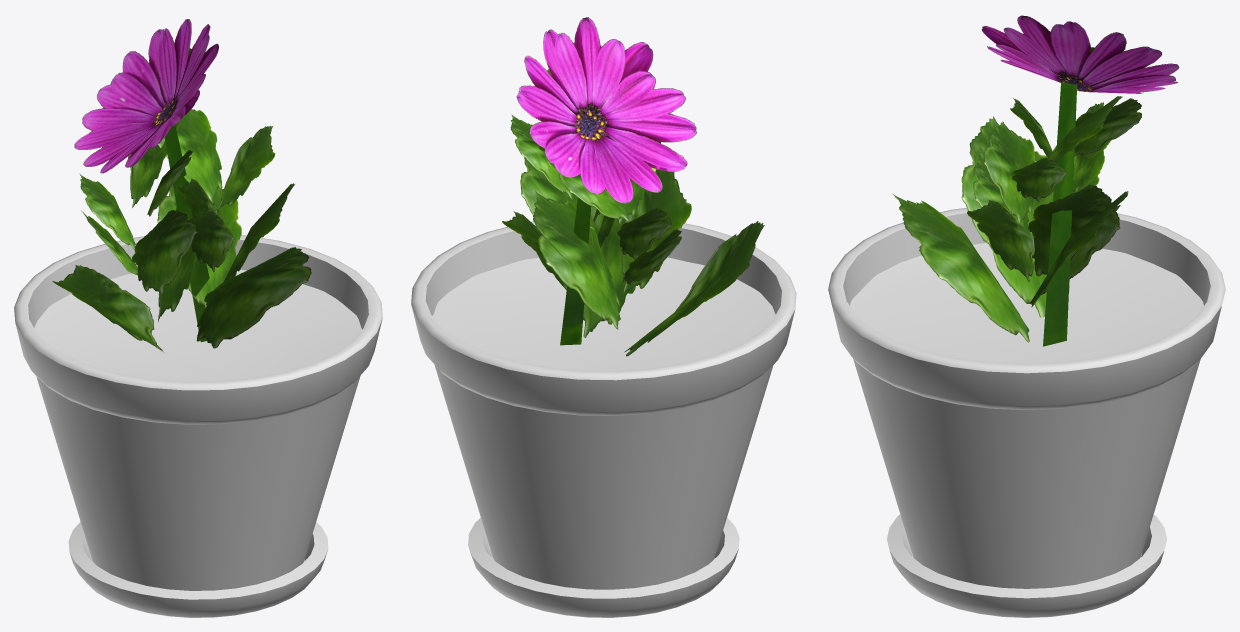
The model's file is pot.fbx.
3 renders of one model, left to right at view 1: azimuth 30°, elevation 25°; view 2: azimuth 150°, elevation 25°; view 3: azimuth 270°, elevation 25°, orthographic. The views are drawn at different scales.
Parts seen in each view (by area): view 1: Cylinder.001, Cylinder.003, Cylinder.006, Cylinder.005; view 2: Cylinder.001, Cylinder.003, Cylinder.006, Cylinder.005; view 3: Cylinder.001, Cylinder.003, Cylinder.006, Cylinder.005.
Boxes of the visible parts, x1,y1,x2,y2 form: Cylinder.001: [14, 235, 382, 617]; Cylinder.003: [52, 109, 311, 352]; Cylinder.006: [74, 19, 218, 173]; Cylinder.005: [164, 125, 209, 342]; Cylinder.001: [411, 221, 796, 617]; Cylinder.003: [502, 114, 764, 356]; Cylinder.006: [516, 17, 696, 203]; Cylinder.005: [560, 197, 591, 345]; Cylinder.001: [828, 208, 1225, 617]; Cylinder.003: [892, 96, 1141, 342]; Cylinder.006: [981, 15, 1179, 93]; Cylinder.005: [1043, 82, 1077, 346].
Size of the model in its own units: 212 by 324 by 207.
